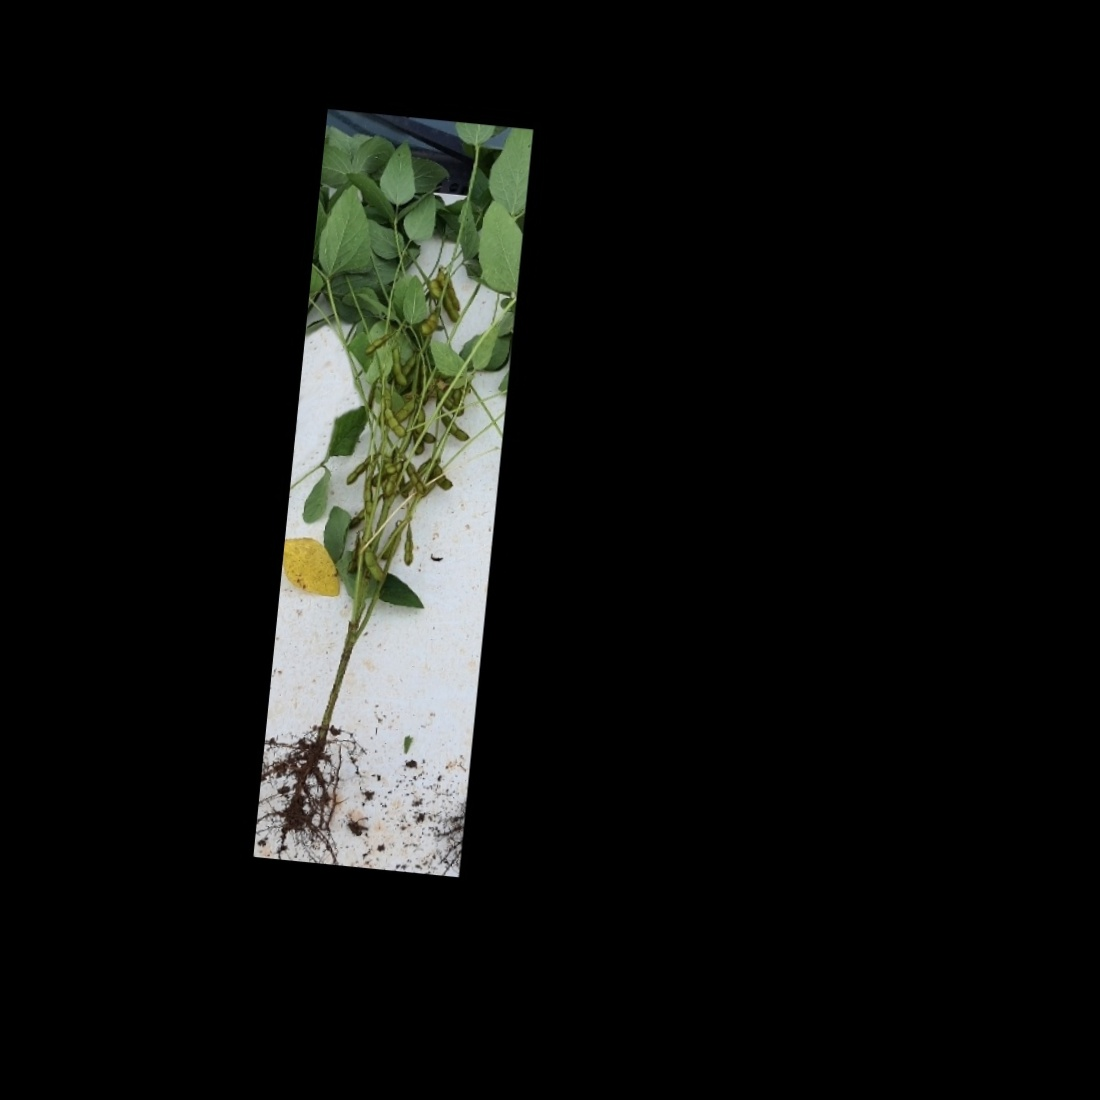pod: (437, 410, 473, 445), (339, 453, 373, 491), (387, 347, 413, 389), (399, 525, 423, 568), (381, 407, 411, 440), (360, 328, 395, 357), (404, 460, 428, 493), (417, 307, 439, 339), (439, 296, 462, 325), (346, 509, 366, 533), (426, 276, 444, 300)
soy: (266, 130, 520, 846)
